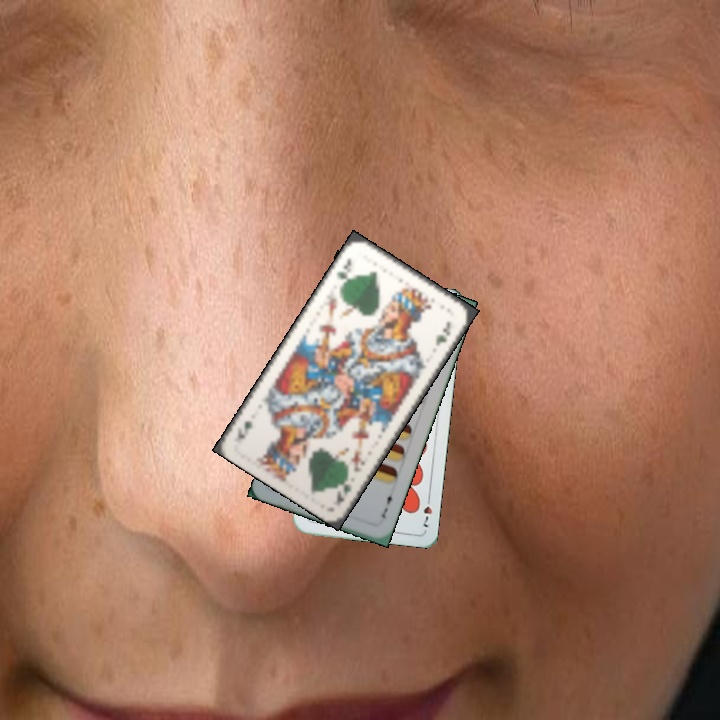E7: (377, 488, 396, 521)
GK: (332, 470, 354, 507), (332, 253, 354, 289)
H7: (419, 491, 435, 530)
